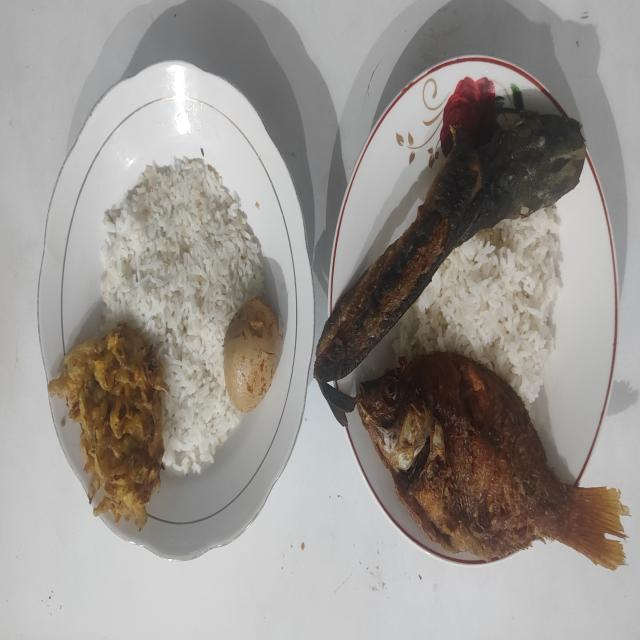ikan_mujair: (350, 353, 629, 570)
nasi_putih: (102, 158, 264, 474), (392, 206, 562, 407)
